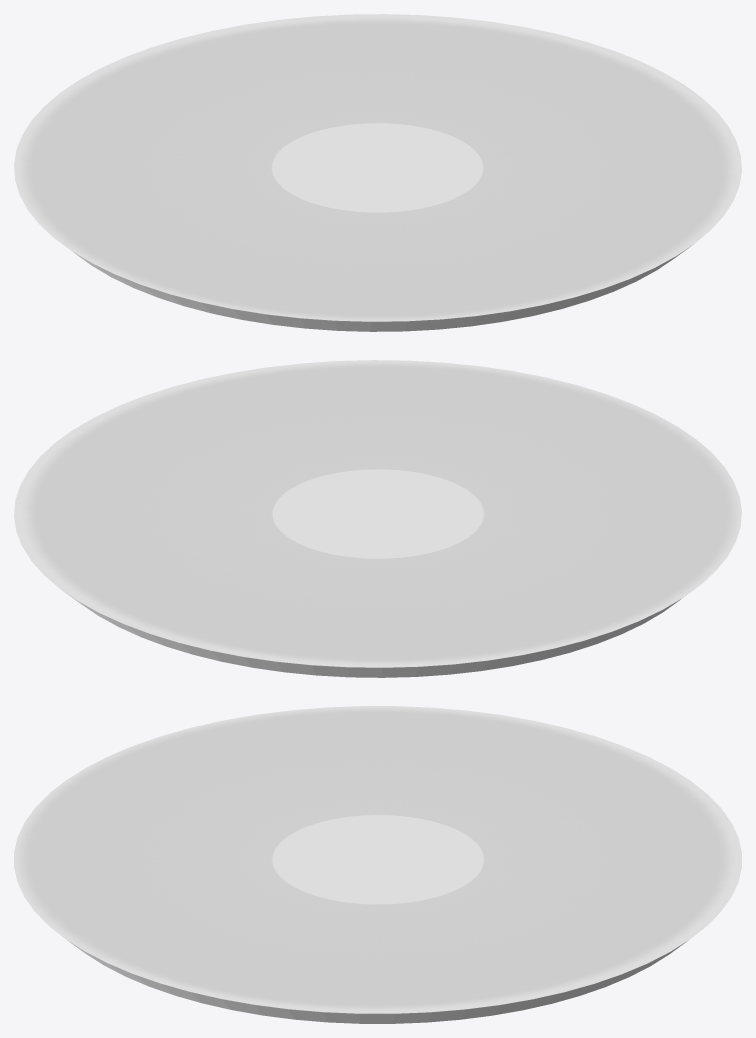
File: desk.gltf
3 renders of one model, top to bottom at view 1: azimuth 30°, elevation 25°; view 2: azimuth 150°, elevation 25°; view 3: azimuth 270°, elevation 25°, orthographic.
Parts seen in each view (by area): view 1: desk; view 2: desk; view 3: desk.
Boxes of the visible parts, left/top/right/bottom form: desk: left=14, top=14, right=741, bottom=331; desk: left=14, top=360, right=741, bottom=677; desk: left=14, top=706, right=741, bottom=1023.
Bounding box in the file's own units: 1.2 × 0.0371 × 1.2.
Materials: 1 (1 with a texture image).
